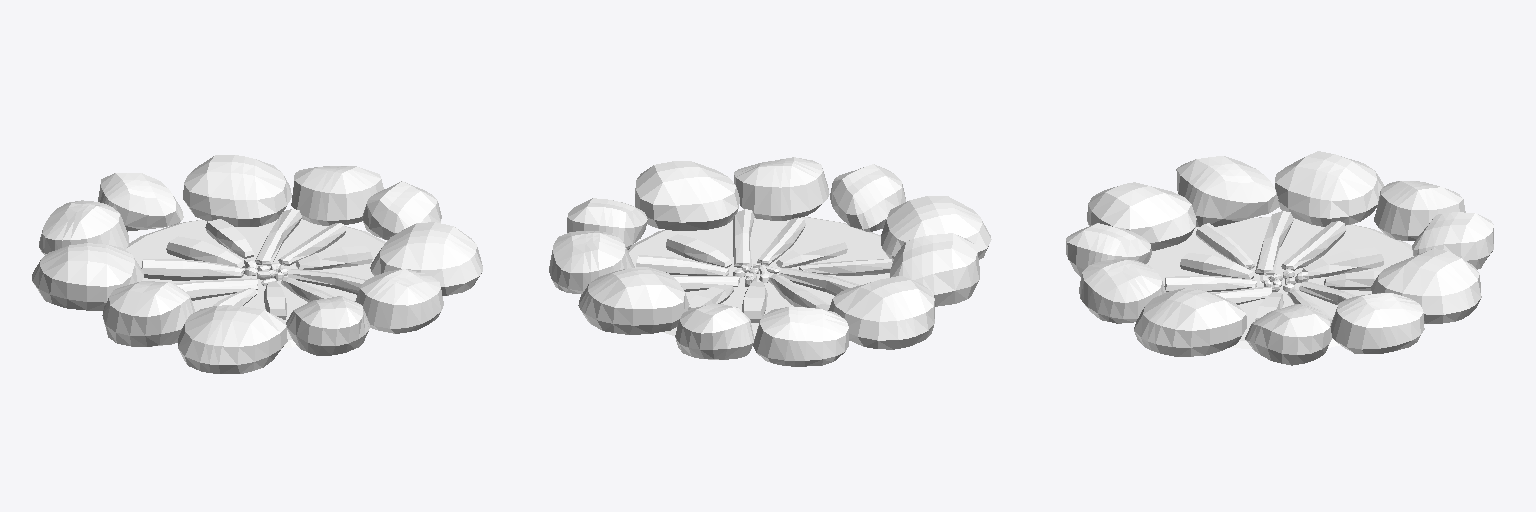
File: campfire.obj
3 renders of one model, left to right at view 1: azimuth 30°, elevation 25°; view 2: azimuth 150°, elevation 25°; view 3: azimuth 270°, elevation 25°, orthographic.
Parts seen in each view (by area): view 1: Rocks_Mesh.007, woods_and_ground_Mesh.006; view 2: Rocks_Mesh.007, woods_and_ground_Mesh.006; view 3: Rocks_Mesh.007, woods_and_ground_Mesh.006.
Boxes of the visible parts, x1=… form: Rocks_Mesh.007: x1=32, y1=155, x2=482, y2=373; woods_and_ground_Mesh.006: x1=126, y1=209, x2=385, y2=347; Rocks_Mesh.007: x1=549, y1=157, x2=991, y2=366; woods_and_ground_Mesh.006: x1=628, y1=209, x2=892, y2=347; Rocks_Mesh.007: x1=1066, y1=151, x2=1493, y2=365; woods_and_ground_Mesh.006: x1=1146, y1=211, x2=1413, y2=348.
Size of the model in its own units: 0.2024 by 0.0277 by 0.1989.